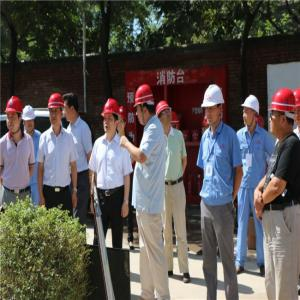none: (62, 92, 81, 126)
red: (269, 89, 296, 138), (4, 96, 24, 135), (136, 86, 156, 125), (101, 98, 121, 136), (49, 93, 65, 128), (156, 100, 174, 130), (292, 87, 300, 130), (118, 107, 127, 133)
white: (203, 85, 226, 126), (244, 94, 260, 128), (22, 106, 37, 134)
